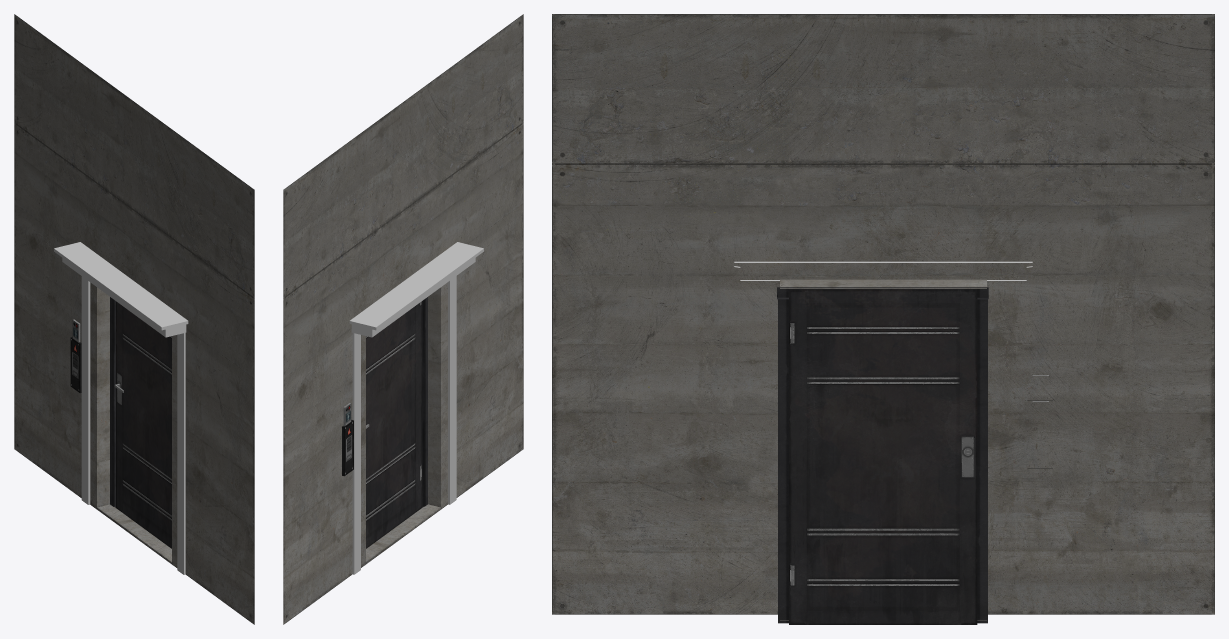
File: CP_Wall_Entry_4m_03.fbx
The picture shows the model from 3 angles, left to right: view 1: azimuth 30°, elevation 25°; view 2: azimuth 150°, elevation 25°; view 3: azimuth 270°, elevation 25°; orthographic projection. The views are drawn at different scales.
Visible parts, largest first — view 1: CP_Wall_Entry_4m_03; view 2: CP_Wall_Entry_4m_03; view 3: CP_Wall_Entry_4m_03.
Part boxes in pixels (left/top/right/bottom): CP_Wall_Entry_4m_03: left=14, top=14, right=254, bottom=624; CP_Wall_Entry_4m_03: left=283, top=14, right=523, bottom=624; CP_Wall_Entry_4m_03: left=552, top=14, right=1214, bottom=624.
Size of the model in its own units: 40.82 by 400 by 400.
